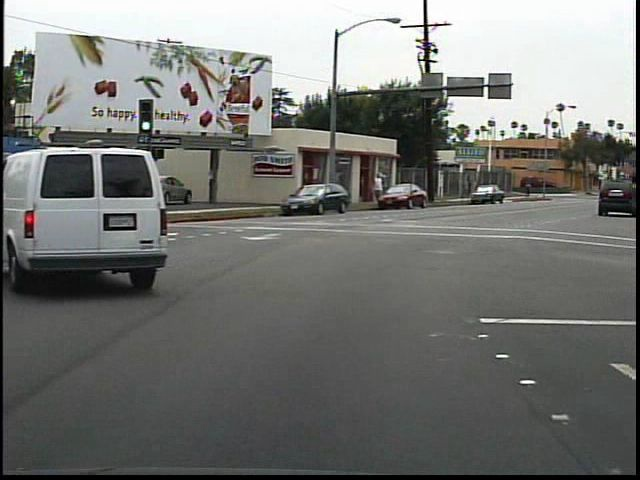person: (369, 168, 389, 209), (522, 178, 534, 200)
